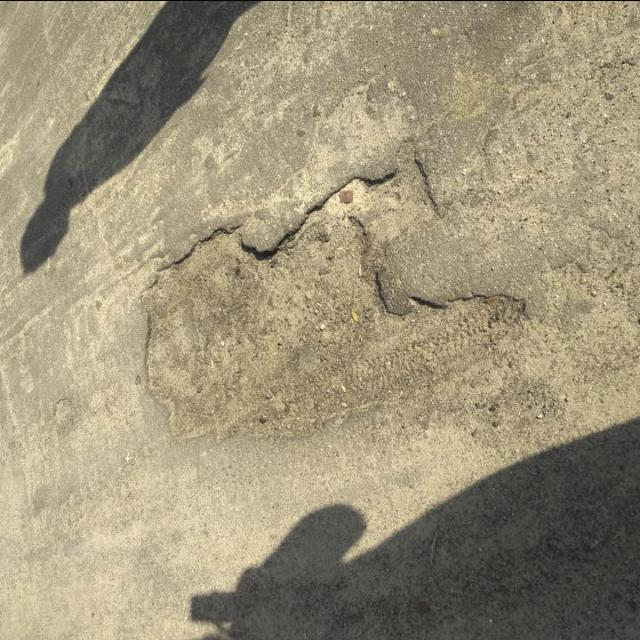pothole: (135, 158, 540, 454)
